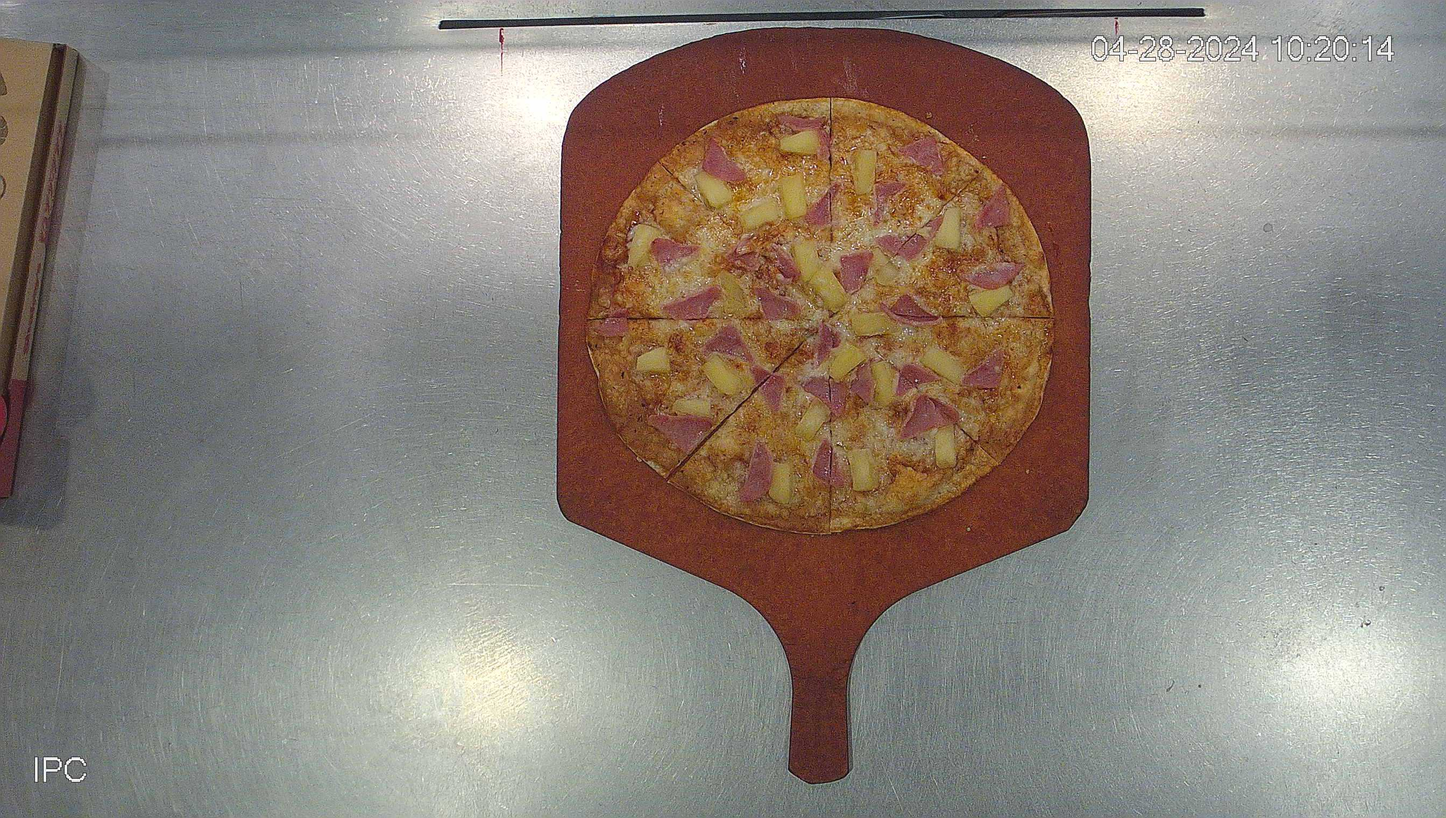manager_choice: (587, 95, 1054, 533)
